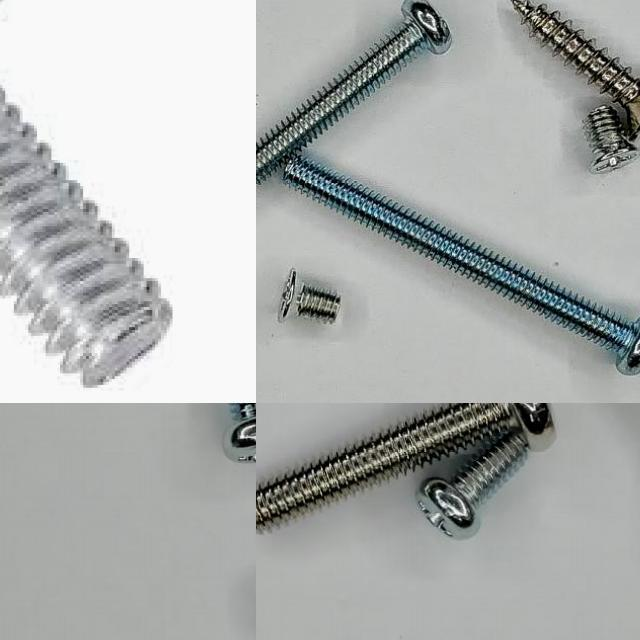Screw: (283, 156, 640, 375), (0, 86, 175, 391), (256, 403, 553, 530), (256, 0, 451, 186), (512, 0, 640, 140), (416, 433, 528, 540), (584, 106, 640, 172), (278, 269, 341, 324), (224, 403, 256, 462)
